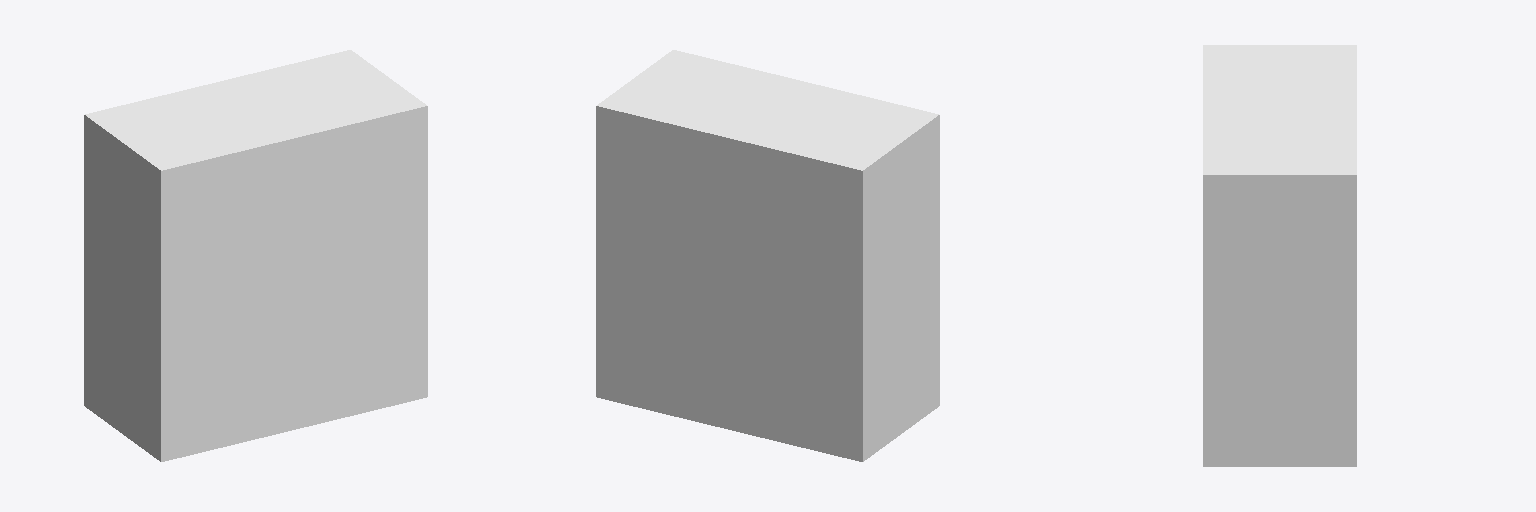
Rendered from FFdou.obj.
3 views of the same model, side by side, from view 1: azimuth 30°, elevation 25°; view 2: azimuth 150°, elevation 25°; view 3: azimuth 270°, elevation 25° (orthographic).
Parts seen in each view (by area): view 1: object 1; view 2: object 1; view 3: object 1.
Part boxes in pixels (x1,y1,x2,y2): object 1: (84, 50, 427, 461); object 1: (596, 50, 939, 461); object 1: (1203, 45, 1356, 466).
Bounding box in the file's own units: 2.2 × 2.3 × 1.1.